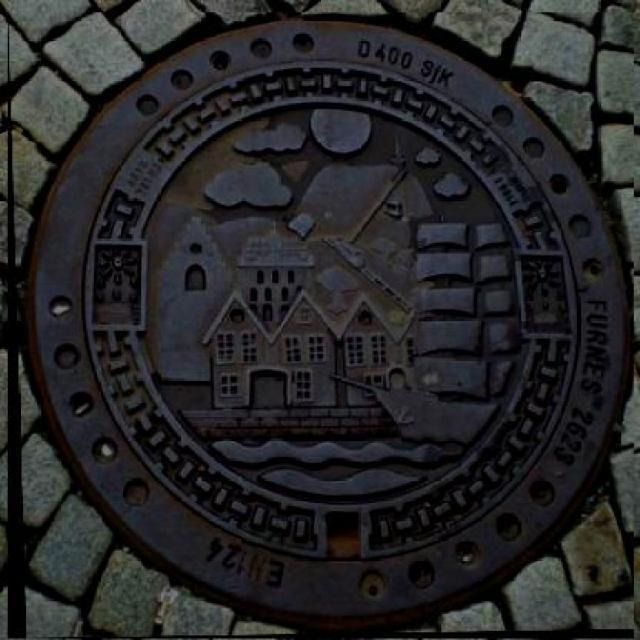Manhole: (8, 12, 634, 638)
